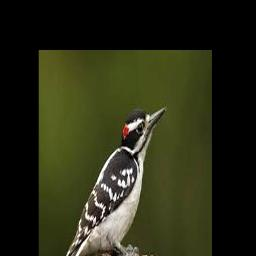Woodpecker: (63, 106, 166, 256)
